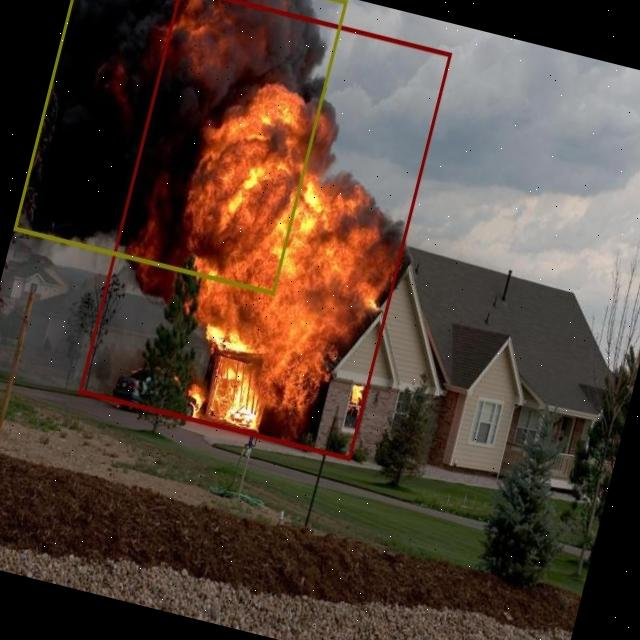fire: (77, 0, 450, 459)
smoke: (12, 0, 347, 294)
